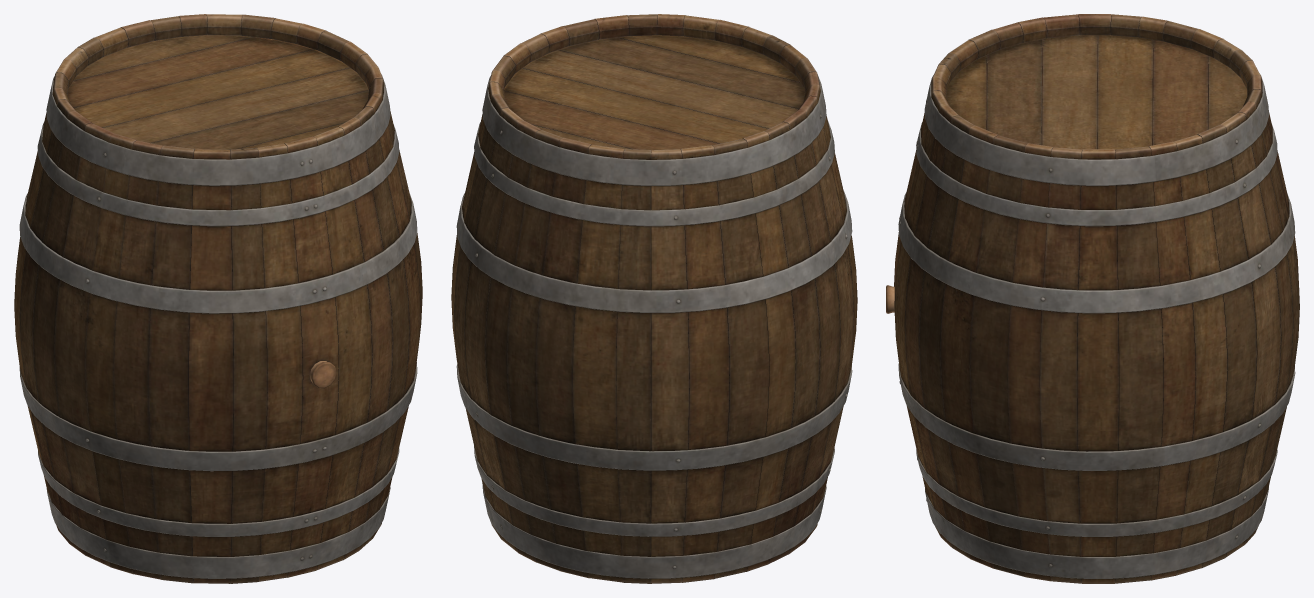
File: wine_barrel_01_4k.obj
The picture shows the model from 3 angles, left to right: view 1: azimuth 30°, elevation 25°; view 2: azimuth 150°, elevation 25°; view 3: azimuth 270°, elevation 25°; orthographic projection.
Visible parts, largest first — view 1: wine_barrel_01_Plane.006, wine_barrel_01_Lid_DiameterSmall.012, wine_barrel_01_bung_Cylinder.014; view 2: wine_barrel_01_Plane.006, wine_barrel_01_Lid_DiameterSmall.012; view 3: wine_barrel_01_Plane.006, wine_barrel_01_Lid_DiameterSmall.012.
Boxes of the visible parts, left/top/right/bottom form: wine_barrel_01_Plane.006: left=14, top=14, right=422, bottom=583; wine_barrel_01_Lid_DiameterSmall.012: left=67, top=35, right=368, bottom=149; wine_barrel_01_bung_Cylinder.014: left=310, top=361, right=336, bottom=388; wine_barrel_01_Plane.006: left=451, top=14, right=857, bottom=583; wine_barrel_01_Lid_DiameterSmall.012: left=503, top=35, right=805, bottom=152; wine_barrel_01_Plane.006: left=894, top=14, right=1299, bottom=583; wine_barrel_01_Lid_DiameterSmall.012: left=946, top=35, right=1247, bottom=149.
Size of the model in its own units: 0.7419 by 0.8713 by 0.756.
1 material, 1 textured.
